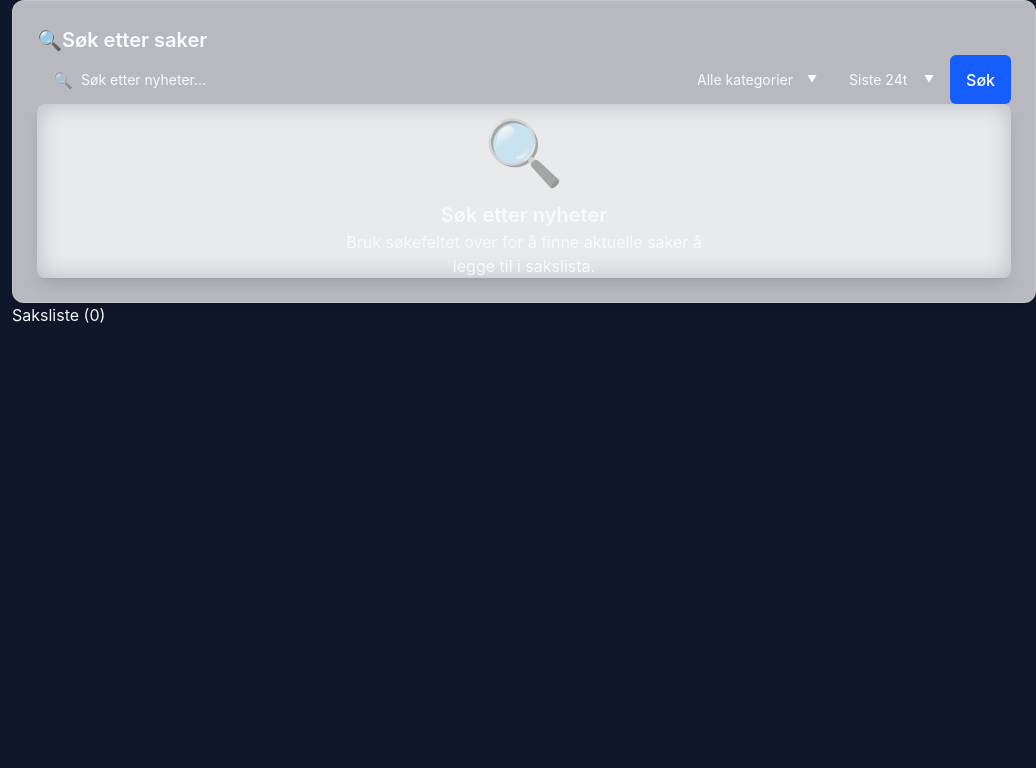
it: Search to Saksliste Integration › add to saksliste flow › adds multiple results to saksliste
The width and height of the screenshot is (1036, 768).
// Search with 'exclusive' which matches both results
Type "exclusive" into the field with placeholder "Søk etter nyheter..." at (359, 80), box top-left (37, 55), bottom-right (681, 104)
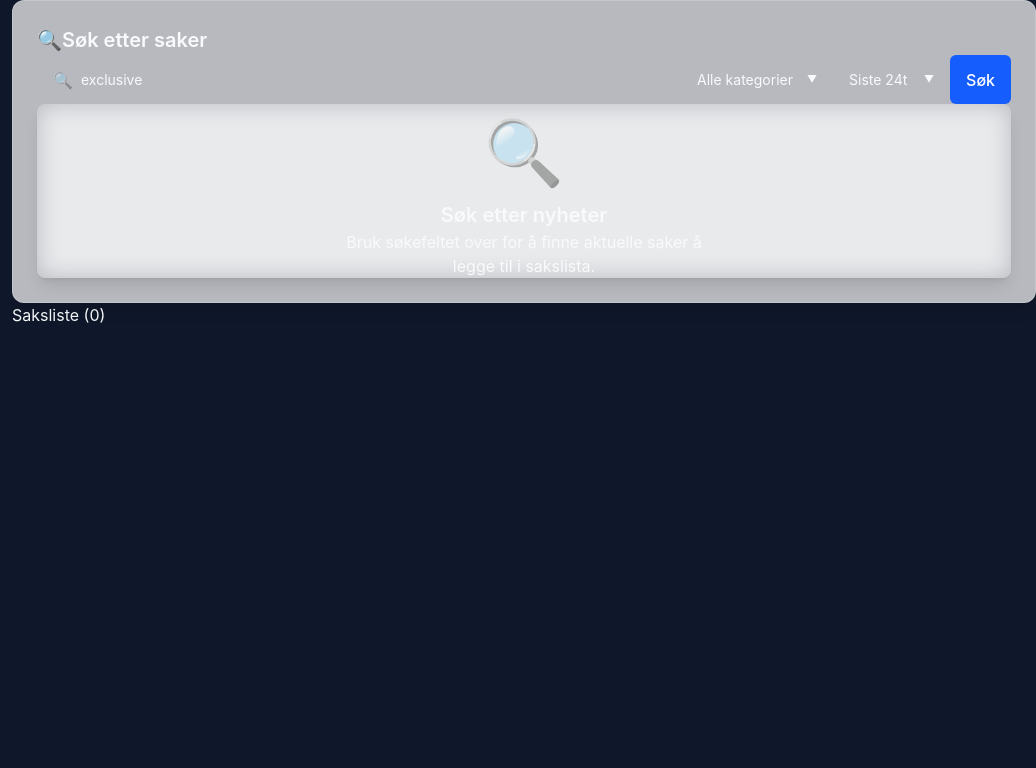
Click the button "Søk" at (980, 80), box top-left (950, 55), bottom-right (1011, 104)
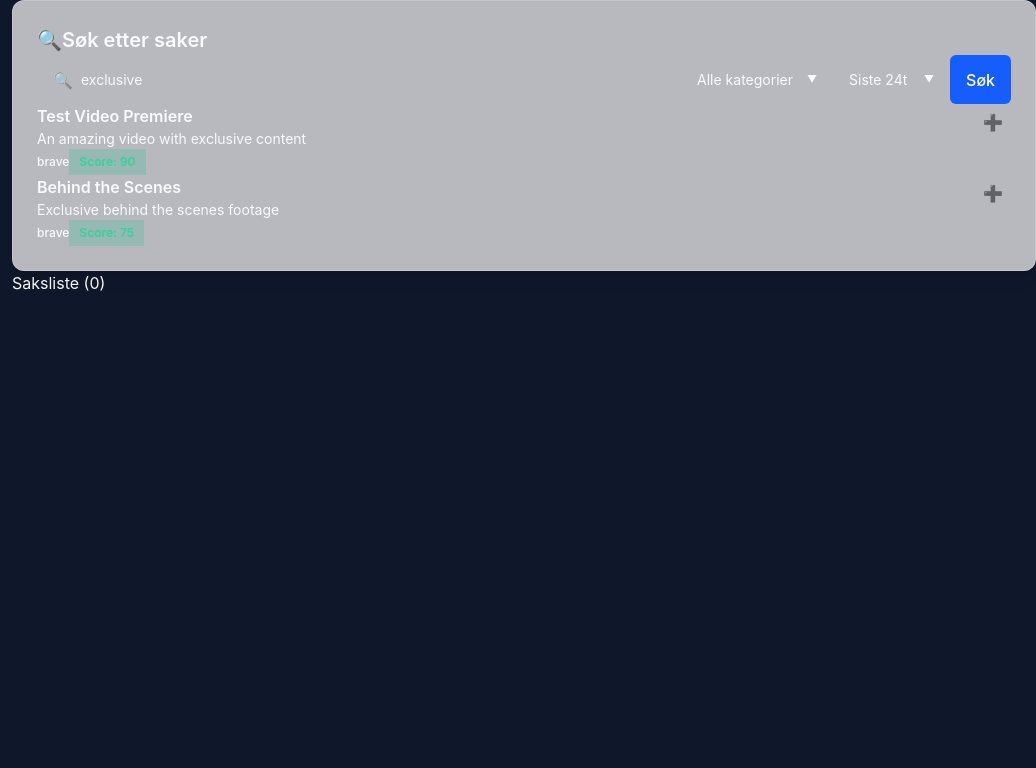
Check: the button named "Legg til Test Video Premiere" is shown
// Add both results
Click the button named "Legg til Test Video Premiere" at (993, 122), box top-left (975, 104), bottom-right (1011, 140)
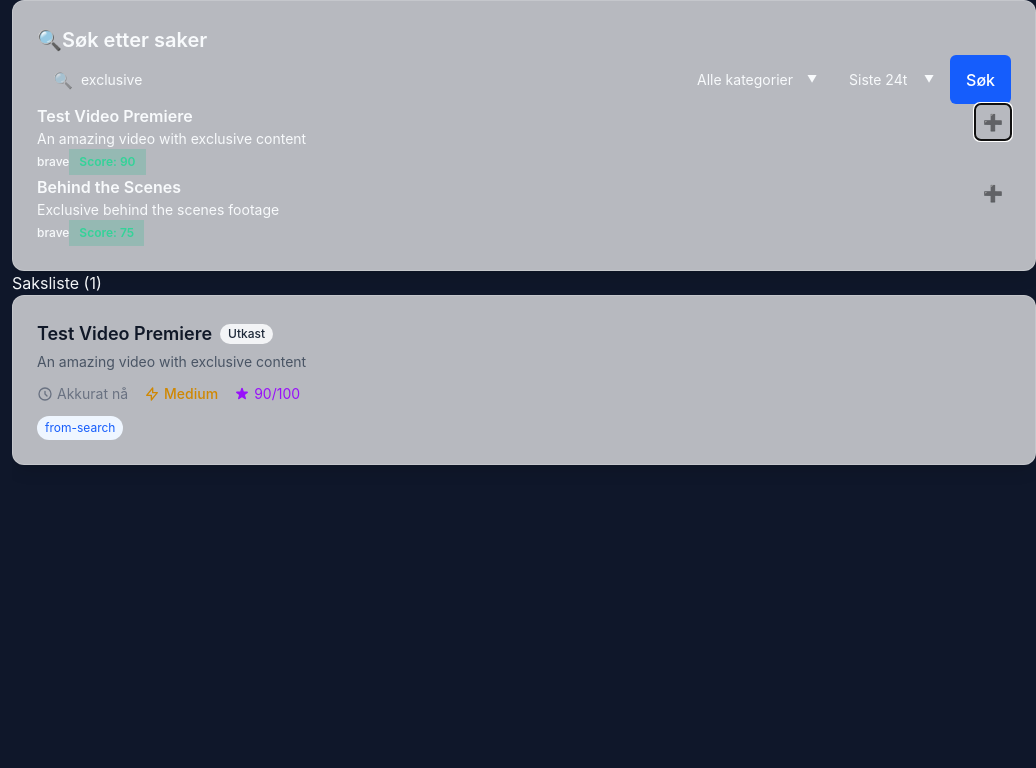
Click the button named "Legg til Behind the Scenes" at (993, 193), box top-left (975, 175), bottom-right (1011, 211)
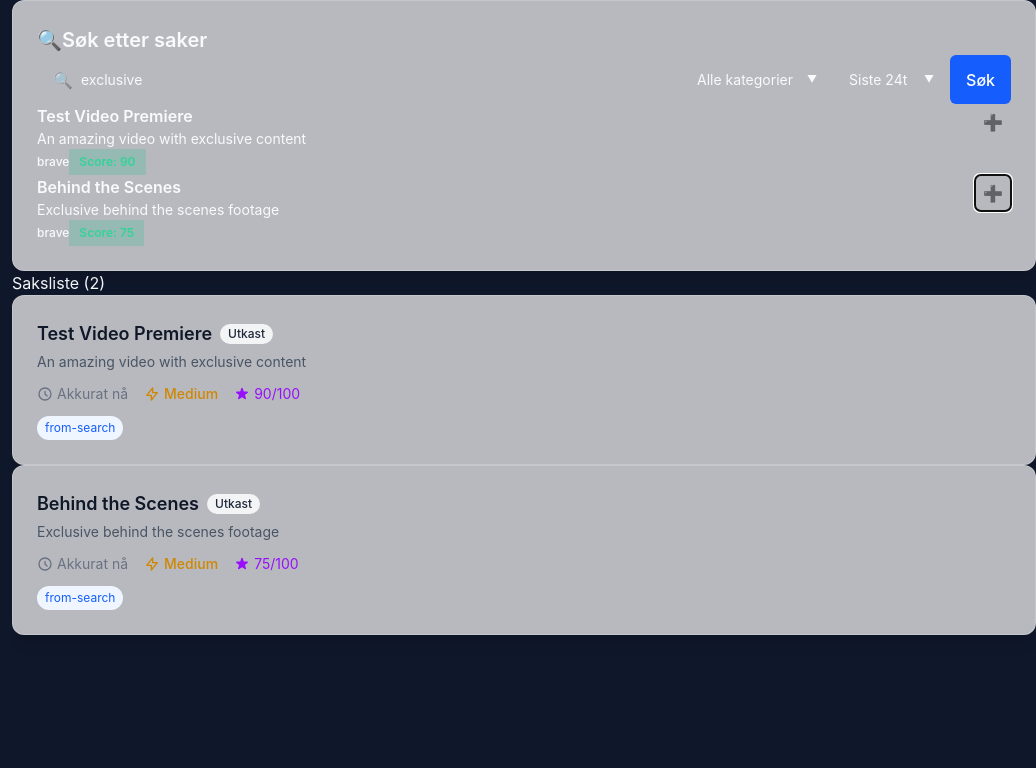
Check: the heading "Saksliste (2)" is shown, box top-left (12, 273), bottom-right (105, 293)
